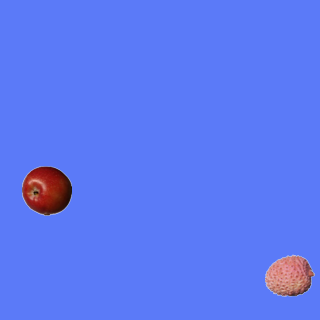Apple Braeburn: (21, 165, 71, 215)
Lychee: (264, 250, 314, 300)
